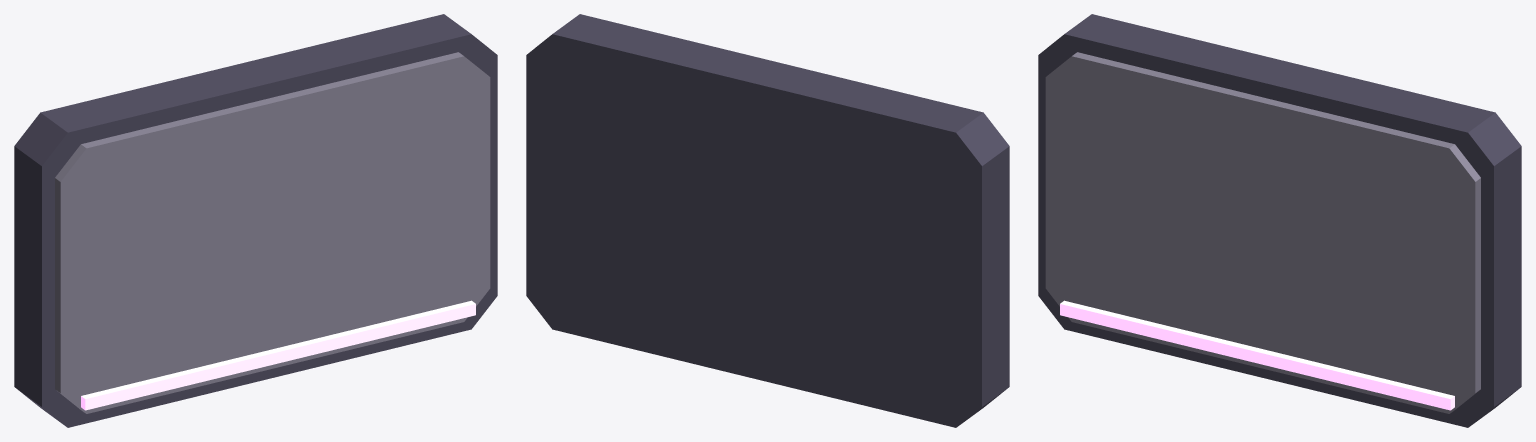
The model's file is ssd.glb.
3 views of the same model, side by side, from view 1: azimuth 30°, elevation 25°; view 2: azimuth 150°, elevation 25°; view 3: azimuth 330°, elevation 25° (orthographic).
Parts seen in each view (by area): view 1: chamfered shroud (×2), part; view 2: chamfered shroud; view 3: chamfered shroud (×2), part.
Part boxes in pixels (left/top/right/bottom): chamfered shroud (×2): left=14, top=14, right=497, bottom=427; part: left=81, top=300, right=475, bottom=410; chamfered shroud: left=526, top=14, right=1009, bottom=427; chamfered shroud (×2): left=1038, top=14, right=1521, bottom=427; part: left=1060, top=300, right=1454, bottom=410.
Bounding box in the file's own units: 2.1 × 1.3 × 0.3075.
